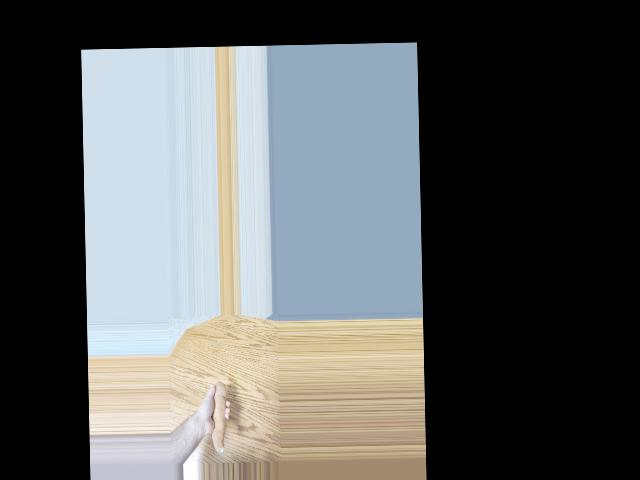sweet_potato: (206, 376, 231, 453)
